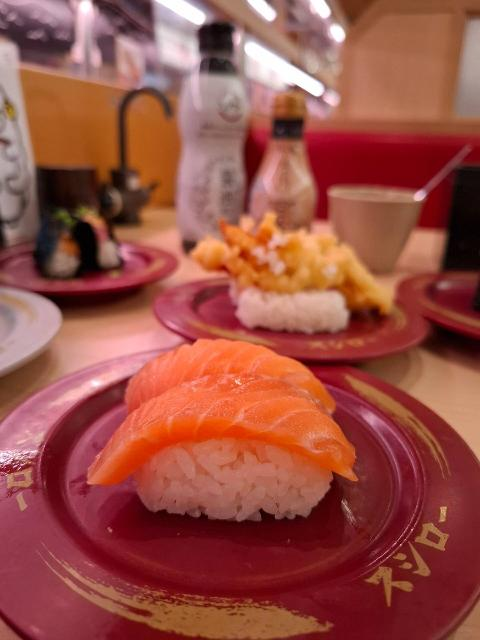janred: (0, 392, 461, 640), (157, 270, 428, 376), (0, 223, 203, 297), (391, 283, 480, 337)
janwhite: (0, 278, 89, 380)
